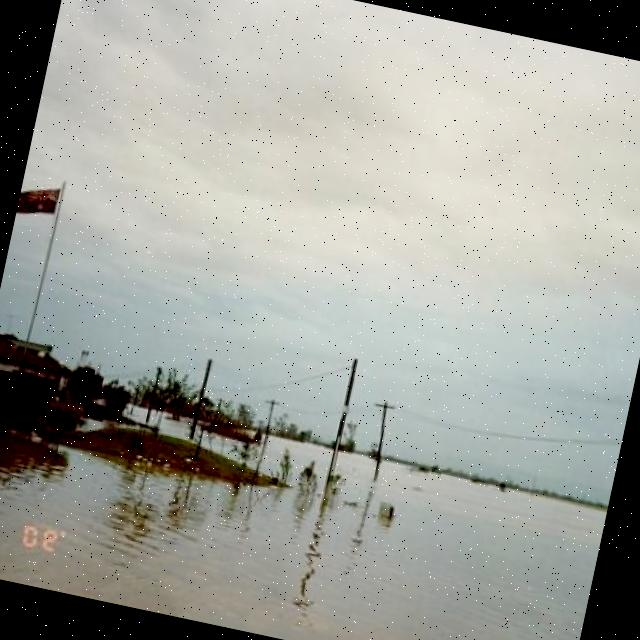St: (20, 1, 640, 328)
